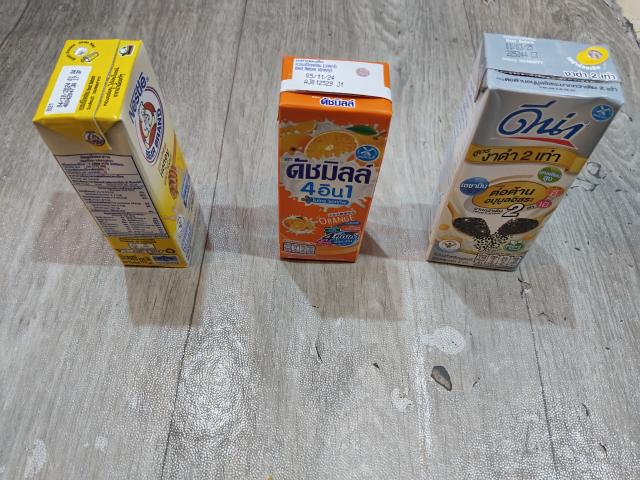drink_box: (414, 26, 632, 281), (24, 29, 214, 276), (267, 52, 397, 271)
